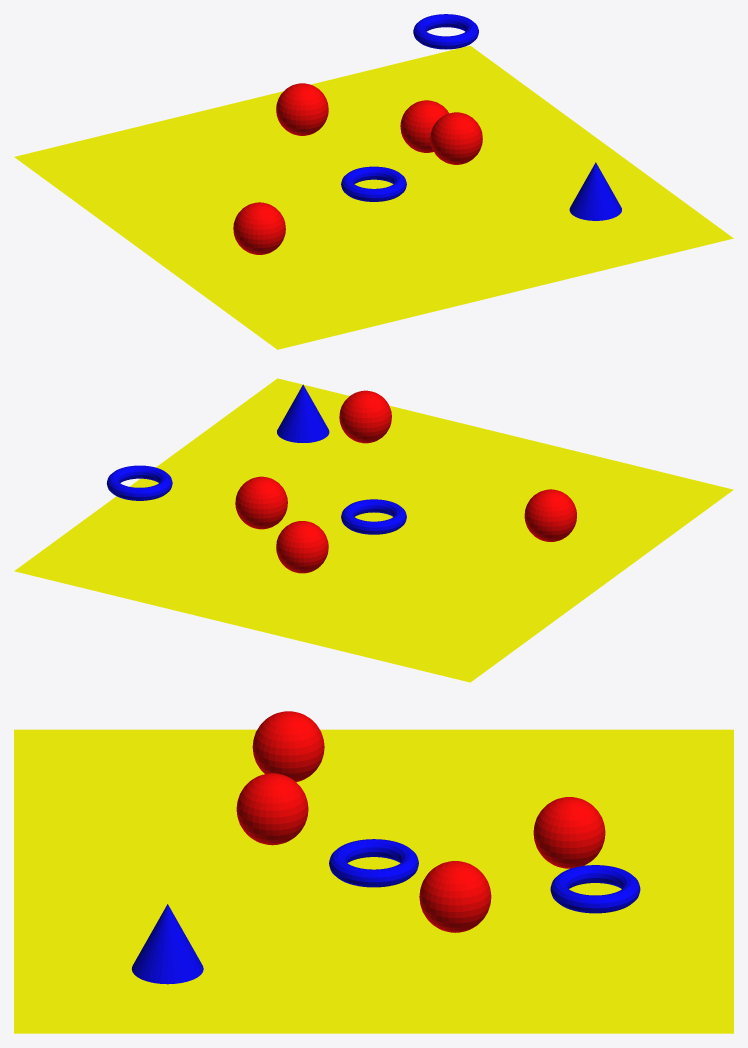
3 renders of one model, top to bottom at view 1: azimuth 30°, elevation 25°; view 2: azimuth 150°, elevation 25°; view 3: azimuth 270°, elevation 25°, orthographic. The views are drawn at different scales.
Parts seen in each view (by area): view 1: Plane, Sphere, Sphere.003, Sphere.002, Cone, Torus.001, Torus, Sphere.001; view 2: Plane, Sphere.003, Sphere.001, Sphere, Sphere.002, Cone, Torus, Torus.001; view 3: Plane, Sphere.001, Sphere.003, Sphere, Sphere.002, Cone, Torus.001, Torus.
Boxes of the visible parts, x1,y1,x2,y2 form: Plane: [14, 45, 733, 349]; Sphere: [276, 83, 328, 135]; Sphere.003: [430, 112, 482, 164]; Sphere.002: [233, 202, 285, 254]; Cone: [569, 162, 621, 220]; Torus.001: [413, 14, 478, 49]; Torus: [341, 166, 406, 201]; Sphere.001: [400, 100, 448, 152]; Plane: [14, 378, 733, 682]; Sphere.003: [339, 390, 391, 443]; Sphere.001: [235, 476, 287, 529]; Sphere: [276, 521, 328, 573]; Sphere.002: [524, 489, 576, 541]; Cone: [277, 384, 329, 442]; Torus: [341, 499, 406, 534]; Torus.001: [106, 465, 172, 500]; Plane: [14, 729, 733, 1033]; Sphere.001: [419, 861, 491, 932]; Sphere.003: [236, 773, 308, 845]; Sphere: [533, 797, 605, 868]; Sphere.002: [252, 711, 324, 781]; Cone: [132, 904, 203, 984]; Torus.001: [550, 865, 640, 913]; Torus: [329, 839, 418, 887].
Size of the model in its own units: 20 by 4.15 by 20.
